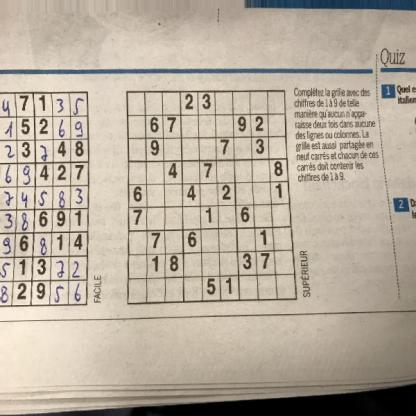sudoku: (122, 87, 298, 306)
